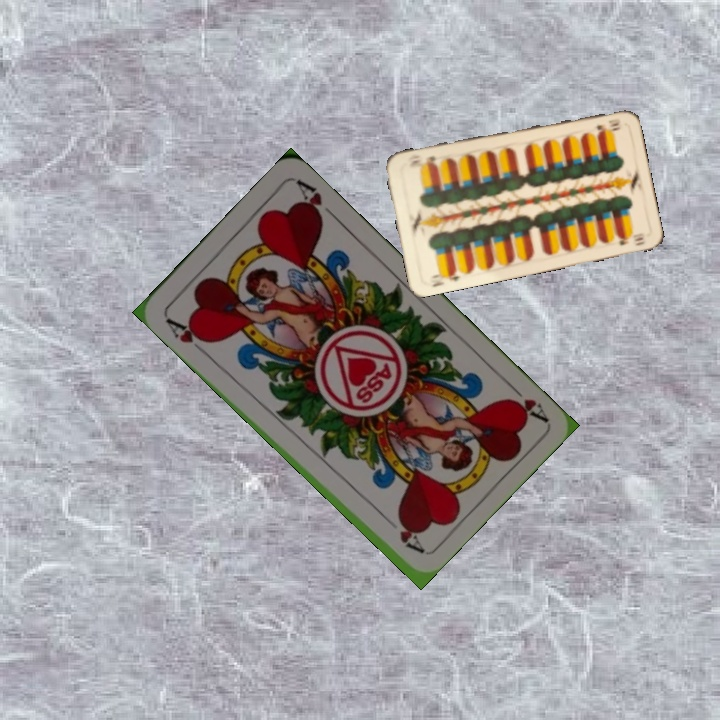E10: (426, 266, 463, 289), (592, 114, 623, 133)
HA: (161, 313, 213, 358), (501, 377, 550, 424)
